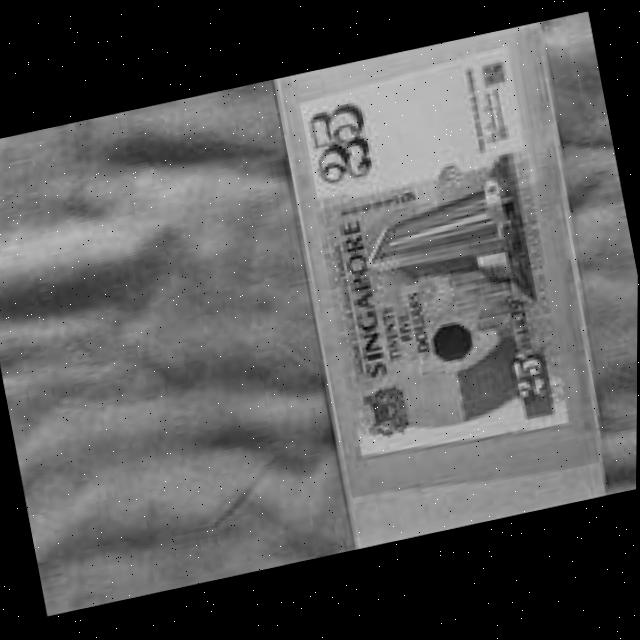banknote: (263, 24, 632, 553), (289, 93, 382, 192), (374, 286, 443, 375), (502, 343, 565, 418)
